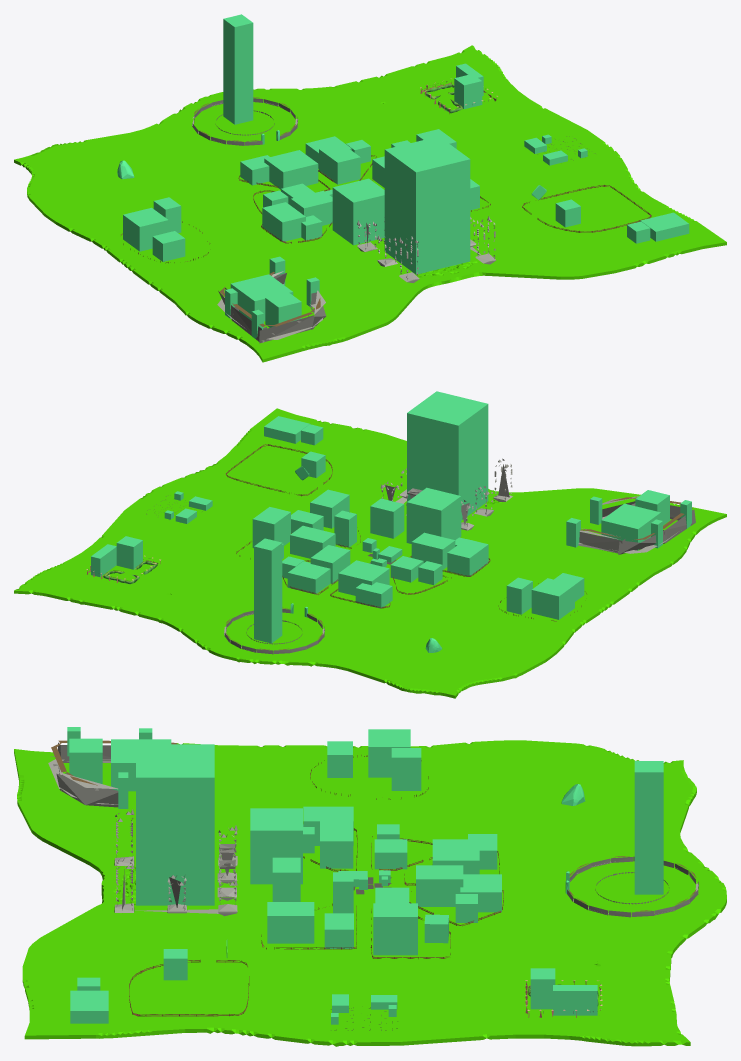
The picture shows the model from 3 angles, top to bottom: view 1: azimuth 30°, elevation 25°; view 2: azimuth 150°, elevation 25°; view 3: azimuth 270°, elevation 25°; orthographic projection. The views are drawn at different scales.
Visible parts, largest first — view 1: COL_Ground, COL_Temple_SecondAge_Level2, COL_House_3.001, COL_Barracks_SecondAge_Level3, COL_Wall_SecondAge.002, COL_Barracks_FirstAge_Level2, COL_Blacksmith, COL_Barracks_FirstAge_Level2.001, COL_Houses_SecondAge_2_Level2.001, COL_WonderWalls_SecondAge, COL_Stable.001, COL_House_2.001 (+8 smaller); view 2: COL_Ground, COL_Temple_SecondAge_Level2, COL_House_3.001, COL_Barracks_SecondAge_Level3, COL_Wall_SecondAge.002, COL_Barracks_FirstAge_Level2.001, COL_Blacksmith, COL_WonderWalls_SecondAge, COL_Inn, COL_Stable.001, COL_TowerHouse_SecondAge, COL_Barracks_FirstAge_Level2 (+17 smaller); view 3: COL_Ground, COL_Temple_SecondAge_Level2, COL_House_3.001, COL_Barracks_SecondAge_Level3, COL_WonderWalls_SecondAge, COL_Inn, COL_Wall_SecondAge.002, COL_Houses_SecondAge_2_Level2, COL_Houses_SecondAge_2_Level2.001, COL_Houses_SecondAge_2_Level2.002, COL_Blacksmith, COL_Barracks_FirstAge_Level2 (+20 smaller).
Boxes of the visible parts, x1,y1,x2,y2 form: COL_Ground: (14, 45, 726, 362); COL_Temple_SecondAge_Level2: (384, 136, 470, 274); COL_House_3.001: (223, 14, 253, 124); COL_Barracks_SecondAge_Level3: (332, 178, 384, 245); COL_Wall_SecondAge.002: (217, 271, 326, 343); COL_Barracks_FirstAge_Level2: (264, 150, 318, 189); COL_Blacksmith: (123, 207, 168, 251); COL_Barracks_FirstAge_Level2.001: (230, 274, 293, 321); COL_Houses_SecondAge_2_Level2.001: (319, 143, 360, 184); COL_WonderWalls_SecondAge: (357, 216, 496, 283); COL_Stable.001: (262, 202, 305, 241); COL_House_2.001: (265, 292, 301, 327); COL_Ground: (14, 408, 726, 698); COL_Temple_SecondAge_Level2: (407, 391, 488, 520); COL_House_3.001: (254, 538, 282, 643); COL_Barracks_SecondAge_Level3: (406, 487, 461, 543); COL_Wall_SecondAge.002: (578, 496, 695, 554); COL_Barracks_FirstAge_Level2.001: (601, 503, 660, 550); COL_Blacksmith: (531, 578, 574, 619); COL_WonderWalls_SecondAge: (380, 458, 512, 530); COL_Inn: (252, 507, 290, 548); COL_Stable.001: (447, 539, 488, 576); COL_TowerHouse_SecondAge: (370, 498, 404, 538); COL_Barracks_FirstAge_Level2: (338, 560, 389, 595); COL_Ground: (14, 740, 726, 1046); COL_Temple_SecondAge_Level2: (136, 744, 214, 905); COL_House_3.001: (634, 761, 663, 894); COL_Barracks_SecondAge_Level3: (250, 808, 302, 884); COL_WonderWalls_SecondAge: (114, 809, 237, 916); COL_Inn: (373, 903, 417, 955); COL_Wall_SecondAge.002: (48, 740, 177, 807); COL_Houses_SecondAge_2_Level2: (267, 902, 314, 943); COL_Houses_SecondAge_2_Level2.001: (416, 865, 463, 906); COL_Houses_SecondAge_2_Level2.002: (320, 821, 353, 868); COL_Blacksmith: (368, 729, 410, 777); COL_Barracks_FirstAge_Level2: (432, 839, 479, 874).
Bounding box in the file's own units: 271 × 55.66 × 271.
12 materials, 1 textured.
